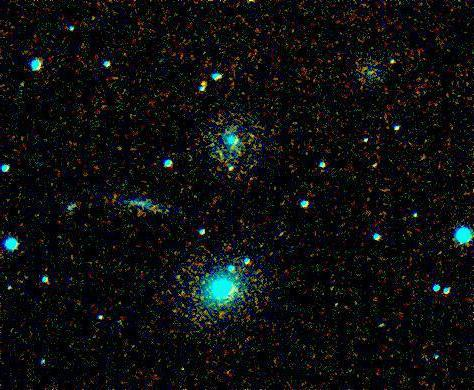star: (182, 72, 212, 102)
